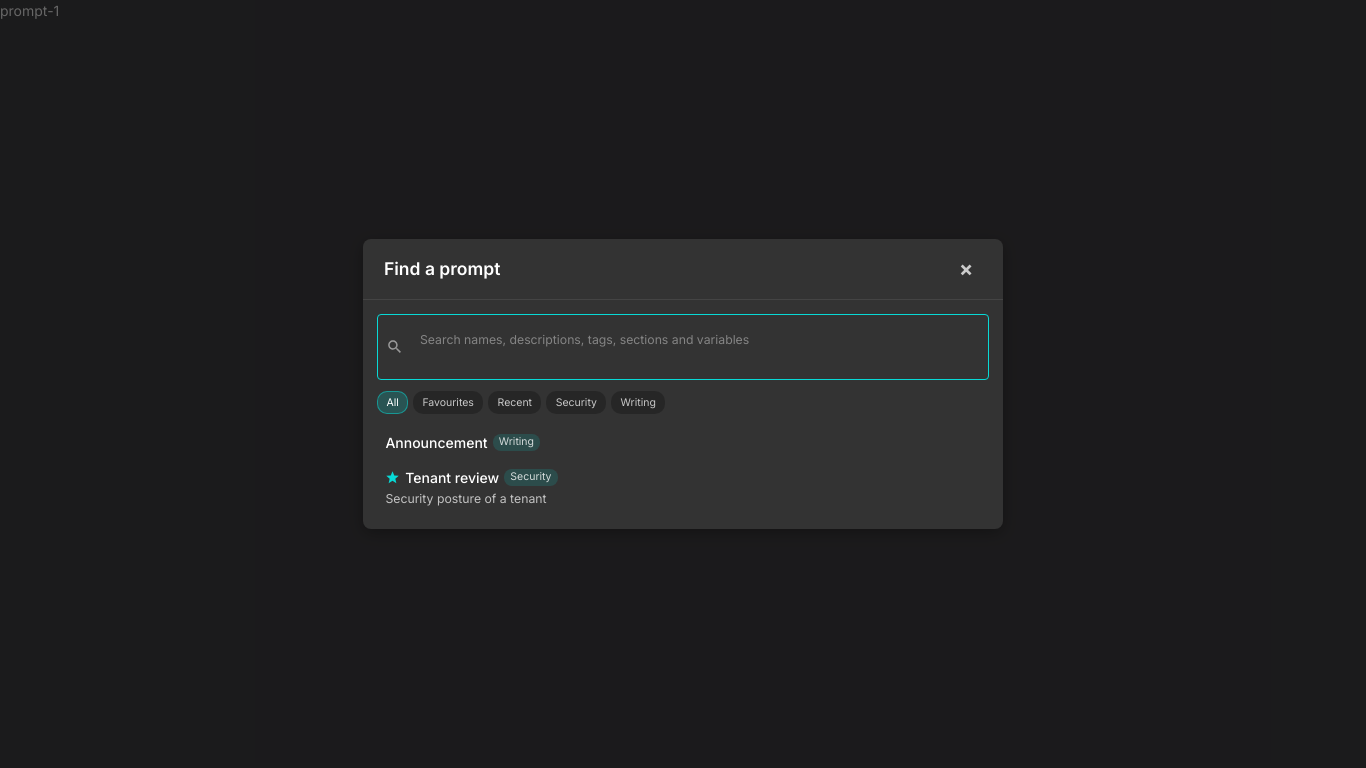
Test: finding a prompt › says so when nothing matches
Type "nothing like this" into the field named "Search prompts" at [695, 340], box left=410, top=320, right=980, bottom=360
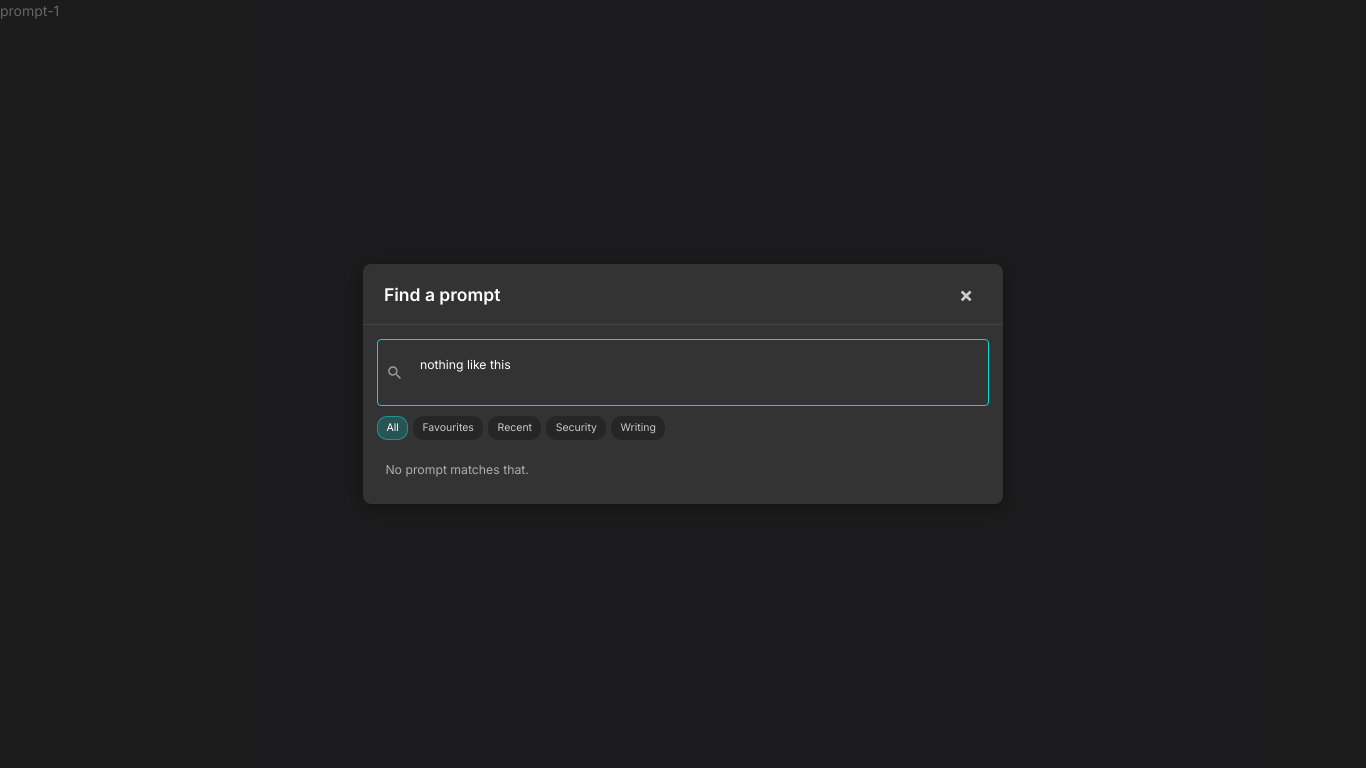
Check: the text "No prompt matches that." is shown, box left=385, top=462, right=529, bottom=477
